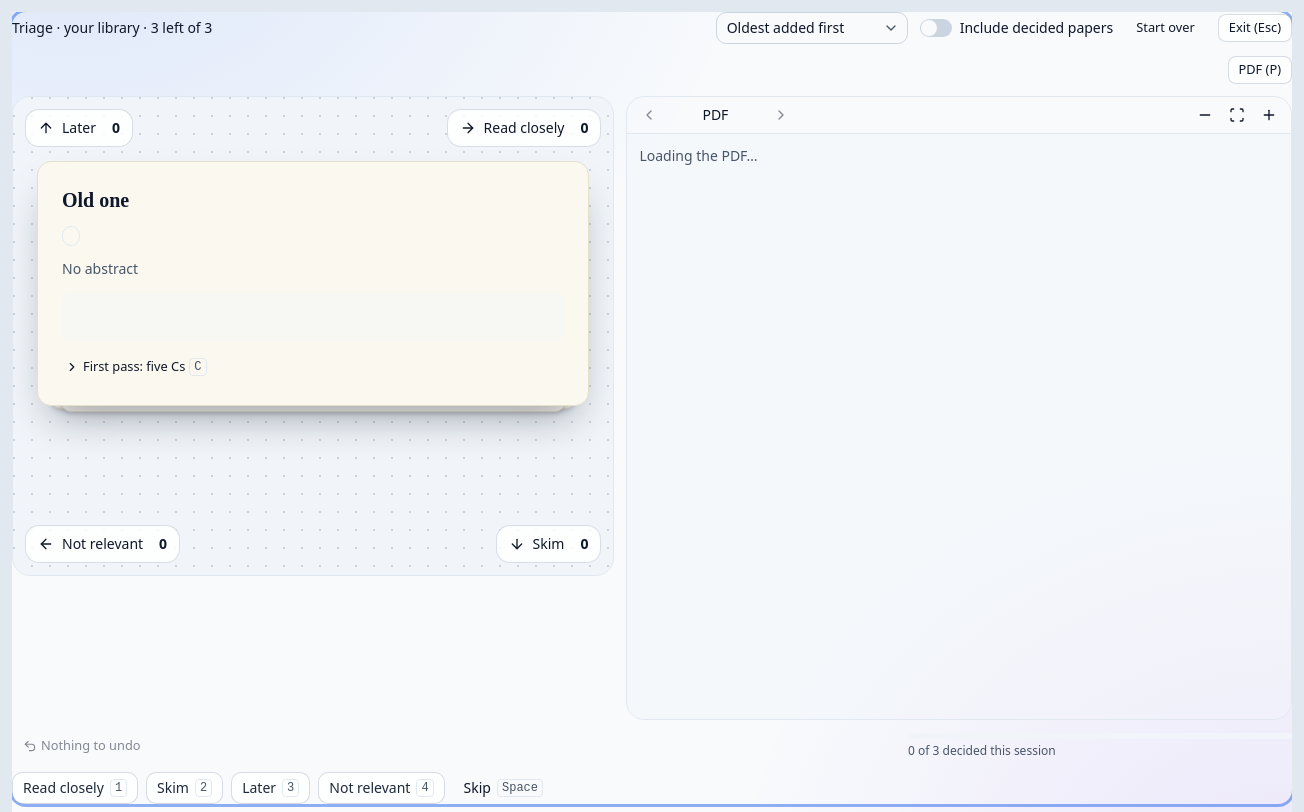
it: a drag onto Not relevant opens the chips and the card waits over the target
Press the mouse on the heading "Old one" at coordinates (96, 200), box [62,189,129,211]
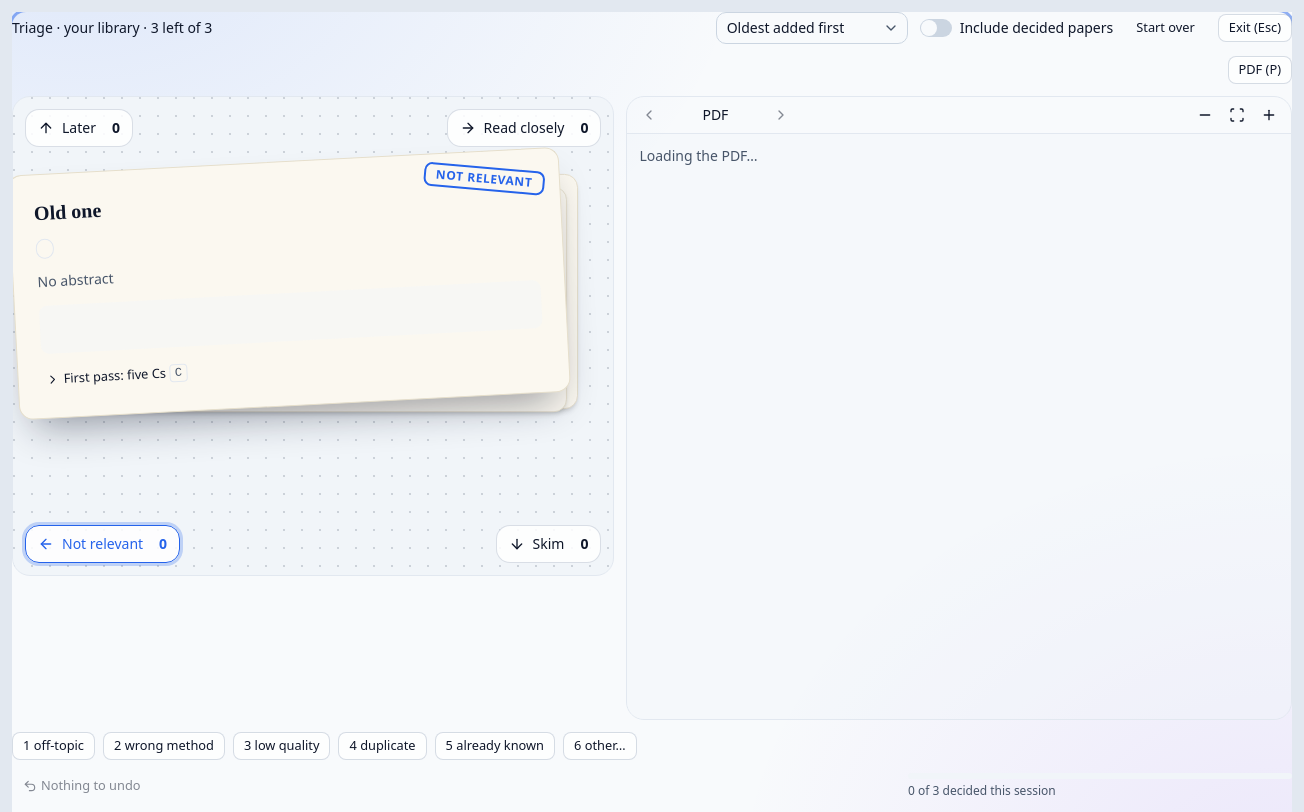
Check: the element named "Reason" is shown, box [12,732,636,760]
